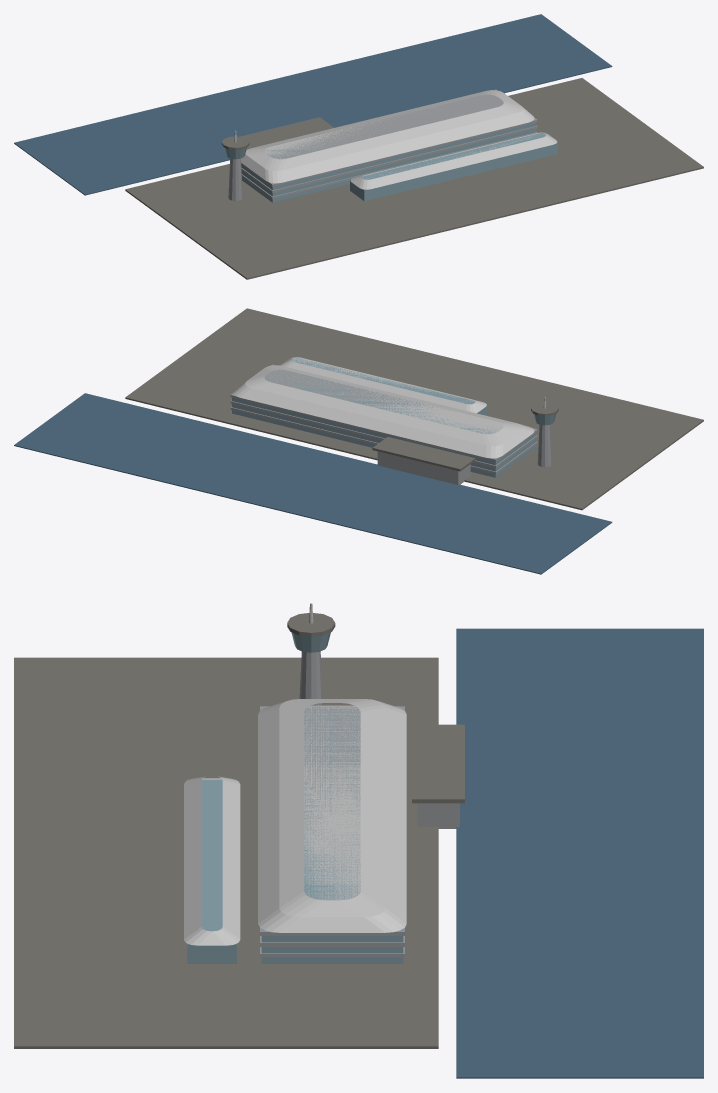
The model's file is london_city_airport.glb.
3 renders of one model, top to bottom at view 1: azimuth 30°, elevation 25°; view 2: azimuth 150°, elevation 25°; view 3: azimuth 270°, elevation 25°, orthographic. The views are drawn at different scales.
Parts seen in each view (by area): view 1: london_city_airport; view 2: london_city_airport; view 3: london_city_airport.
Part boxes in pixels (x1,y1,x2,y2): london_city_airport: (14,14,703,279); london_city_airport: (14,308,703,574); london_city_airport: (14,603,703,1078).
Size of the model in its own units: 300 by 37.2 by 195.
